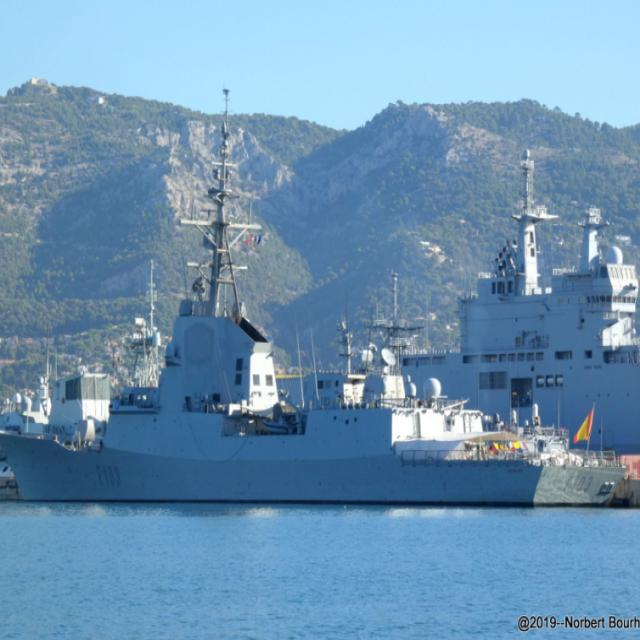Fragata: (1, 83, 633, 512)
